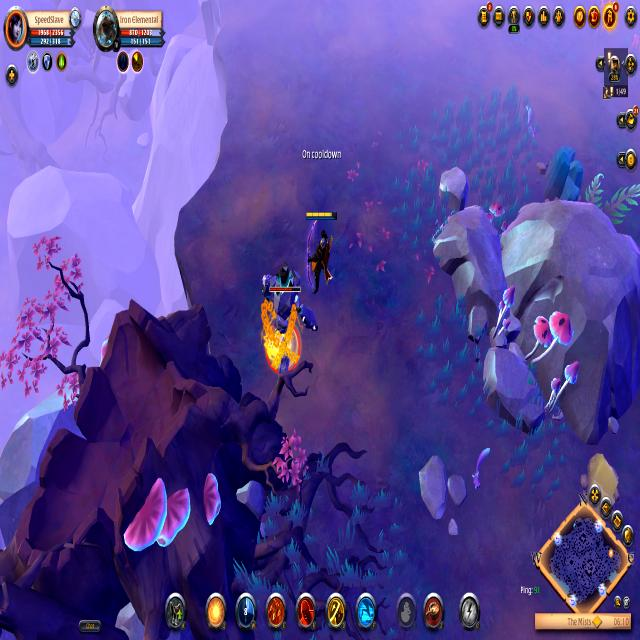ore: (258, 258, 319, 383)
red: (302, 204, 340, 294)
tree: (542, 141, 586, 213)
